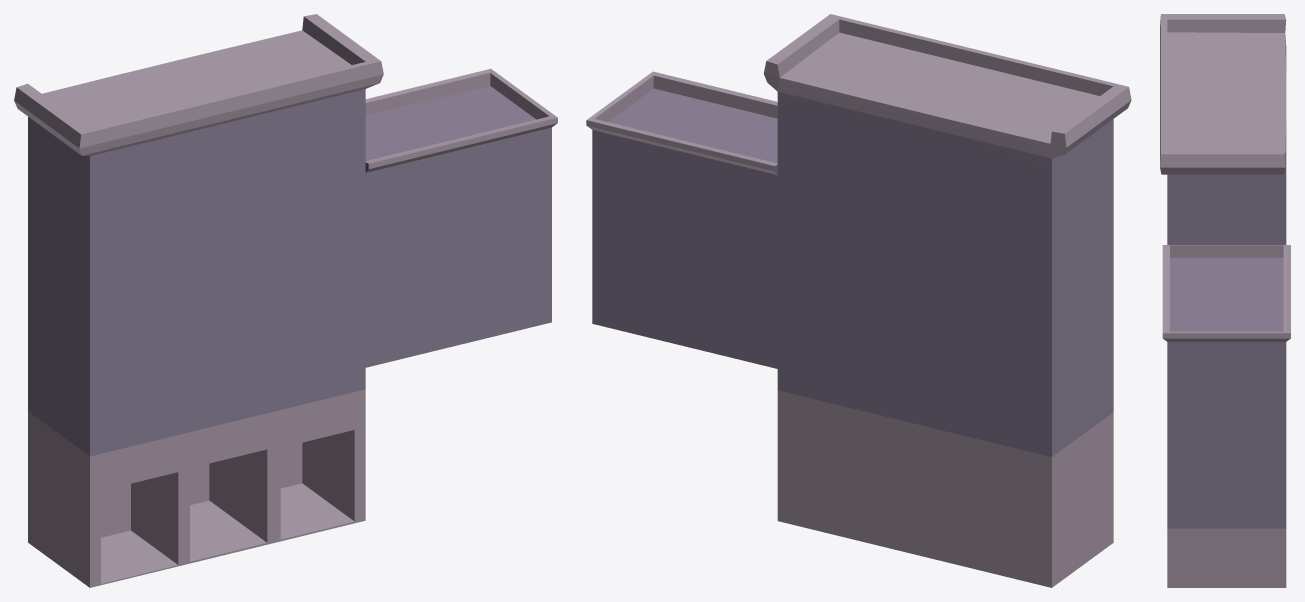
File: building_F_3floors.fbx
The picture shows the model from 3 angles, left to right: view 1: azimuth 30°, elevation 25°; view 2: azimuth 150°, elevation 25°; view 3: azimuth 270°, elevation 25°; orthographic projection. The views are drawn at different scales.
Parts seen in each view (by area): view 1: building_F_3floors; view 2: building_F_3floors; view 3: building_F_3floors.
Boxes of the visible parts, left/top/right/bottom form: building_F_3floors: left=14, top=14, right=557, bottom=587; building_F_3floors: left=586, top=14, right=1131, bottom=587; building_F_3floors: left=1160, top=14, right=1290, bottom=587.
Bounding box in the file's own units: 14.02 × 12.81 × 3.46.
